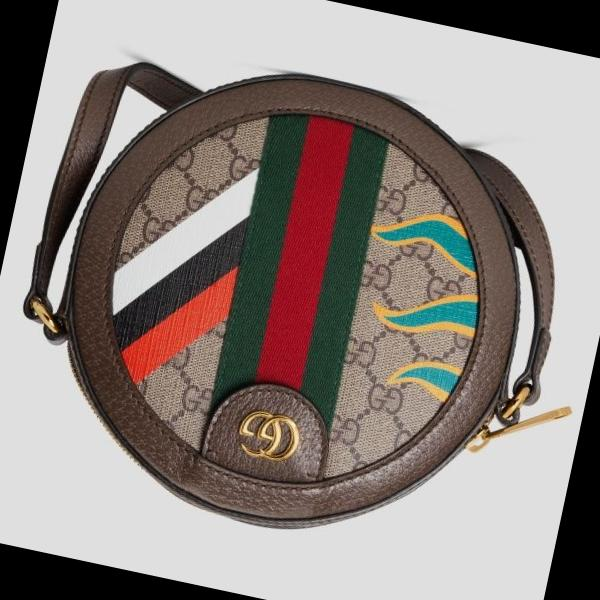GUCCI: (232, 405, 303, 465)
